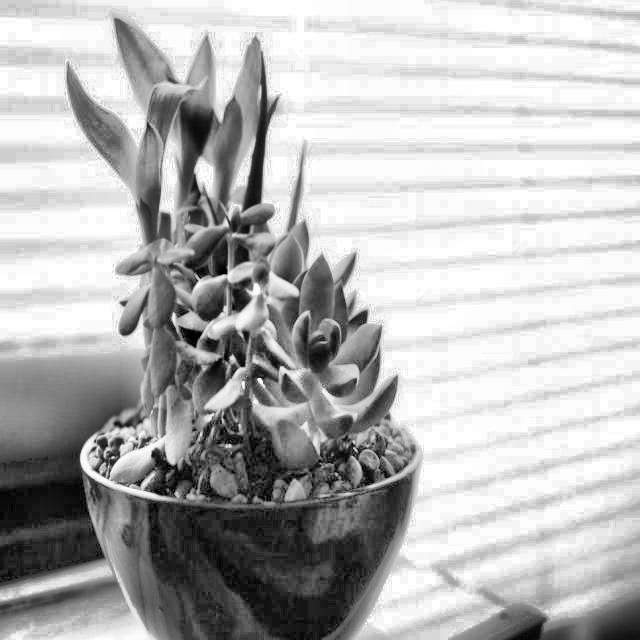plants: (59, 8, 431, 593)
